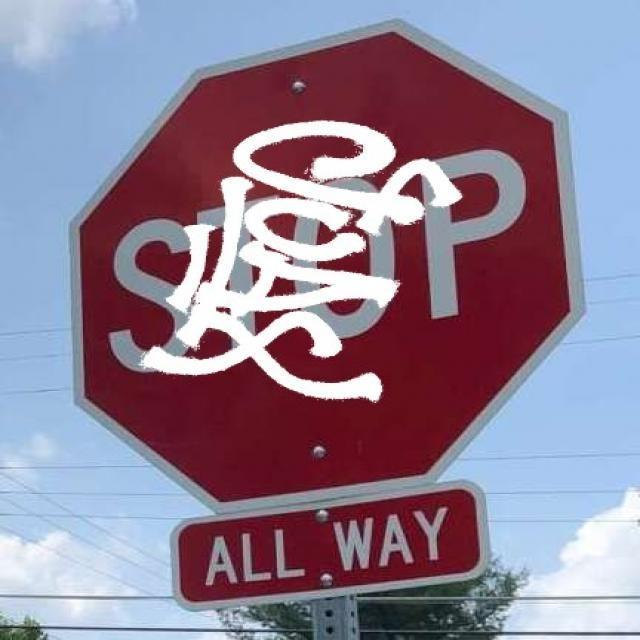Stop-Sign: (106, 38, 542, 486)
